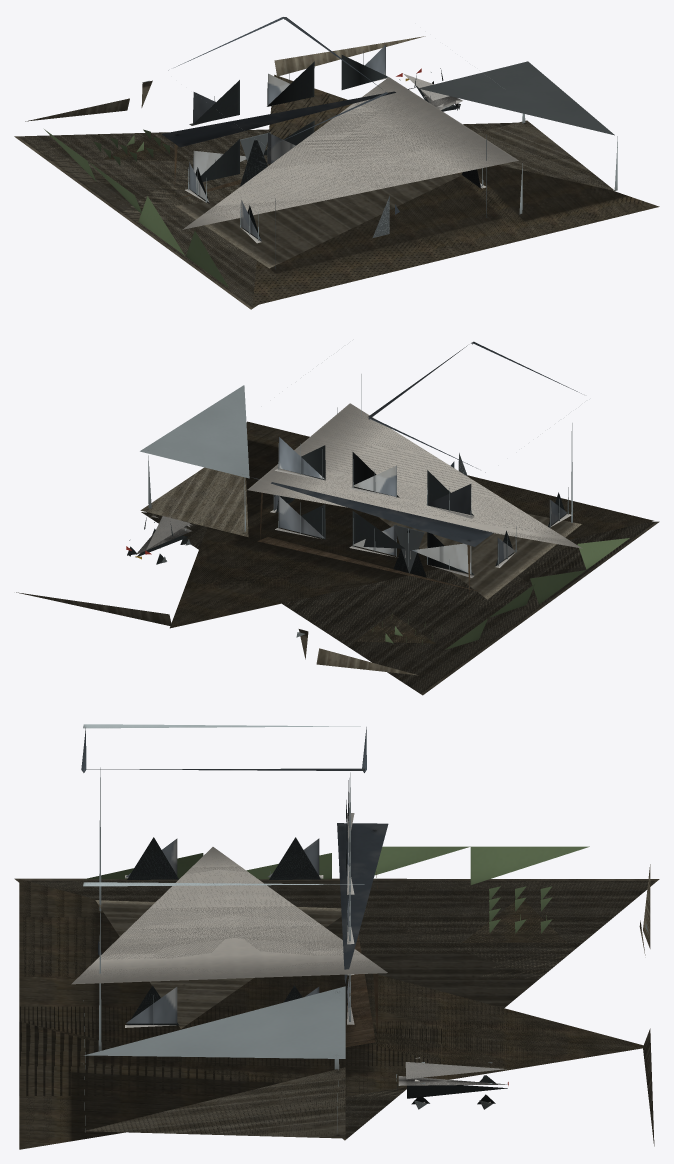
Rendered from rural_house_003.lod2.obj.
The picture shows the model from 3 angles, top to bottom: view 1: azimuth 30°, elevation 25°; view 2: azimuth 150°, elevation 25°; view 3: azimuth 270°, elevation 25°; orthographic projection. The views are drawn at different scales.
Visible parts, largest first — view 1: rural_house_003; view 2: rural_house_003; view 3: rural_house_003.
Boxes of the visible parts, x1,y1,x2,y2 form: rural_house_003: (14,17,659,309); rural_house_003: (16,341,659,695); rural_house_003: (14,724,659,1149).
Bounding box in the file's own units: 20 × 7.41 × 20.
Materials: 1 (1 with a texture image).
